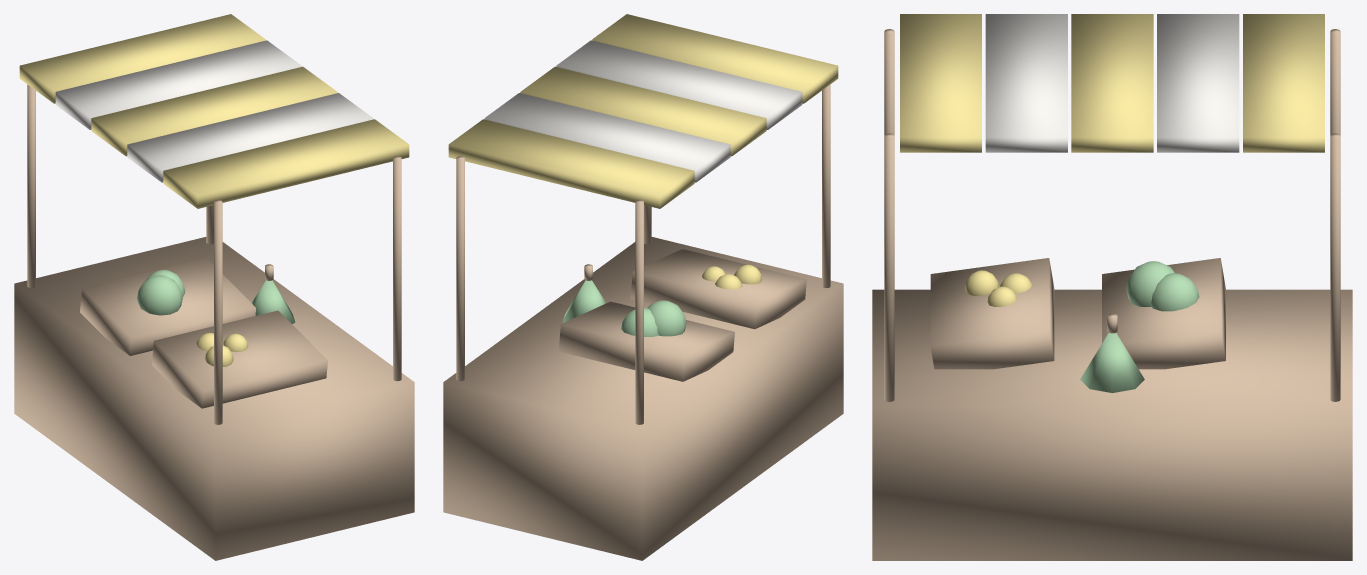
File: fruit_shop.glb
The picture shows the model from 3 angles, left to right: view 1: azimuth 30°, elevation 25°; view 2: azimuth 150°, elevation 25°; view 3: azimuth 270°, elevation 25°; orthographic projection. The views are drawn at different scales.
Parts seen in each view (by area): view 1: table, awning_strip_0, crate_1, crate_2, awning_strip_1, awning_strip_2, awning_strip_3, awning_strip_4, p_rr, p_rl, p_fl, melon_1 (+1 smaller); view 2: table, awning_strip_4, awning_strip_0, awning_strip_1, awning_strip_2, awning_strip_3, crate_1, crate_2, p_fr, p_fl, p_rl, melon_1 (+2 smaller); view 3: table, awning_strip_1, awning_strip_2, awning_strip_3, awning_strip_0, awning_strip_4, crate_1, crate_2, p_fr, p_rr, durian_body, melon_2 (+4 smaller).
Boxes of the visible parts, x1=… form: table: x1=14, y1=237, x2=414, y2=560; awning_strip_0: x1=163, y1=119, x2=409, y2=208; crate_1: x1=151, y1=310, x2=327, y2=408; crate_2: x1=80, y1=258, x2=255, y2=355; awning_strip_1: x1=127, y1=93, x2=373, y2=182; awning_strip_2: x1=91, y1=66, x2=337, y2=156; awning_strip_3: x1=55, y1=40, x2=301, y2=129; awning_strip_4: x1=19, y1=14, x2=265, y2=103; p_rr: x1=393, y1=156, x2=401, y2=381; p_rl: x1=214, y1=200, x2=222, y2=424; p_fl: x1=27, y1=84, x2=35, y2=288; melon_1: x1=137, y1=275, x2=182, y2=315; table: x1=443, y1=237, x2=843, y2=560; awning_strip_4: x1=448, y1=119, x2=694, y2=208; awning_strip_0: x1=592, y1=14, x2=838, y2=103; awning_strip_1: x1=556, y1=40, x2=802, y2=129; awning_strip_2: x1=520, y1=66, x2=766, y2=156; awning_strip_3: x1=484, y1=93, x2=730, y2=182; crate_1: x1=630, y1=249, x2=806, y2=329; crate_2: x1=558, y1=301, x2=734, y2=381; p_fr: x1=456, y1=156, x2=464, y2=381; p_fl: x1=635, y1=200, x2=643, y2=424; p_rl: x1=822, y1=84, x2=830, y2=288; melon_1: x1=647, y1=300, x2=686, y2=336; table: x1=872, y1=289, x2=1352, y2=560; awning_strip_1: x1=985, y1=14, x2=1067, y2=152; awning_strip_2: x1=1071, y1=14, x2=1153, y2=152; awning_strip_3: x1=1157, y1=14, x2=1239, y2=152; awning_strip_0: x1=900, y1=14, x2=981, y2=152; awning_strip_4: x1=1243, y1=14, x2=1324, y2=152; crate_1: x1=930, y1=258, x2=1054, y2=369; crate_2: x1=1102, y1=258, x2=1225, y2=369; p_fr: x1=1330, y1=133, x2=1340, y2=401; p_rr: x1=884, y1=133, x2=894, y2=401; durian_body: x1=1080, y1=333, x2=1144, y2=392; melon_2: x1=1151, y1=273, x2=1199, y2=311.
Size of the model in its own units: 0.85 by 1.38 by 1.4.
